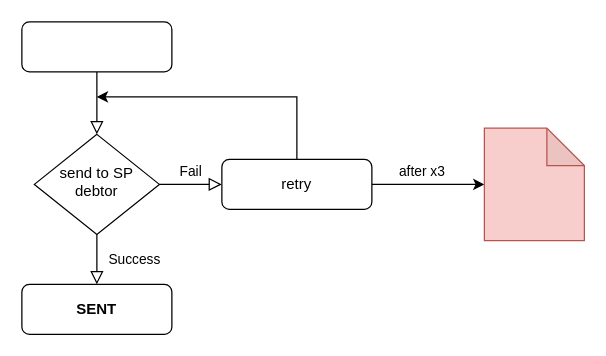
Image size: 606x356. Some labels were removed from this diagram. The shapes that lost their labels are listed below. From the top down, each one's box as (x1, y1, x2, y2) in pixels, then its label:
(21, 21, 172, 72): CREATED
(483, 127, 584, 241): stale RTP
